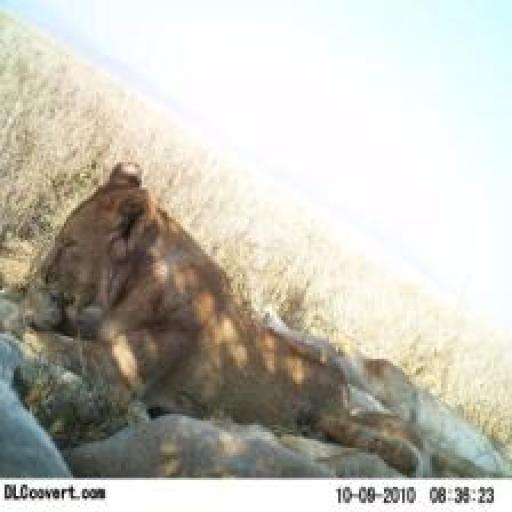lion: (9, 146, 460, 477)
